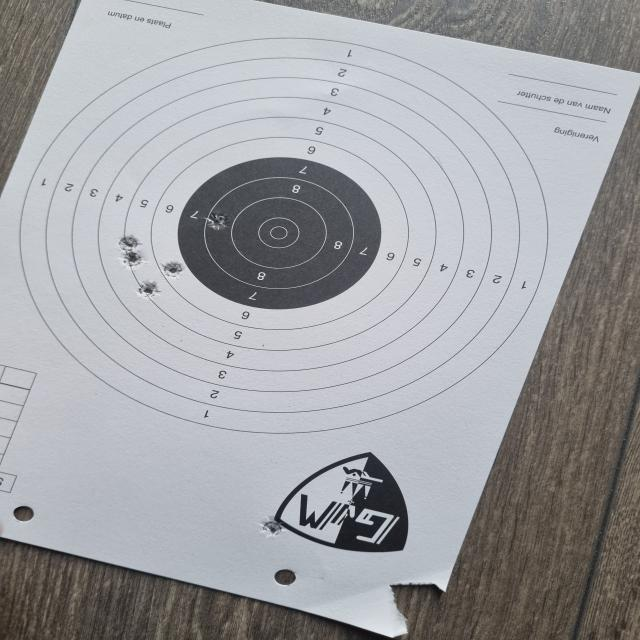6: (118, 236, 144, 252), (138, 280, 161, 297), (121, 252, 142, 267)
7: (160, 261, 185, 277)
9: (204, 212, 228, 230)
Black Contour: (178, 157, 384, 310)
Target: (20, 37, 549, 434)
hole: (260, 516, 284, 538)
